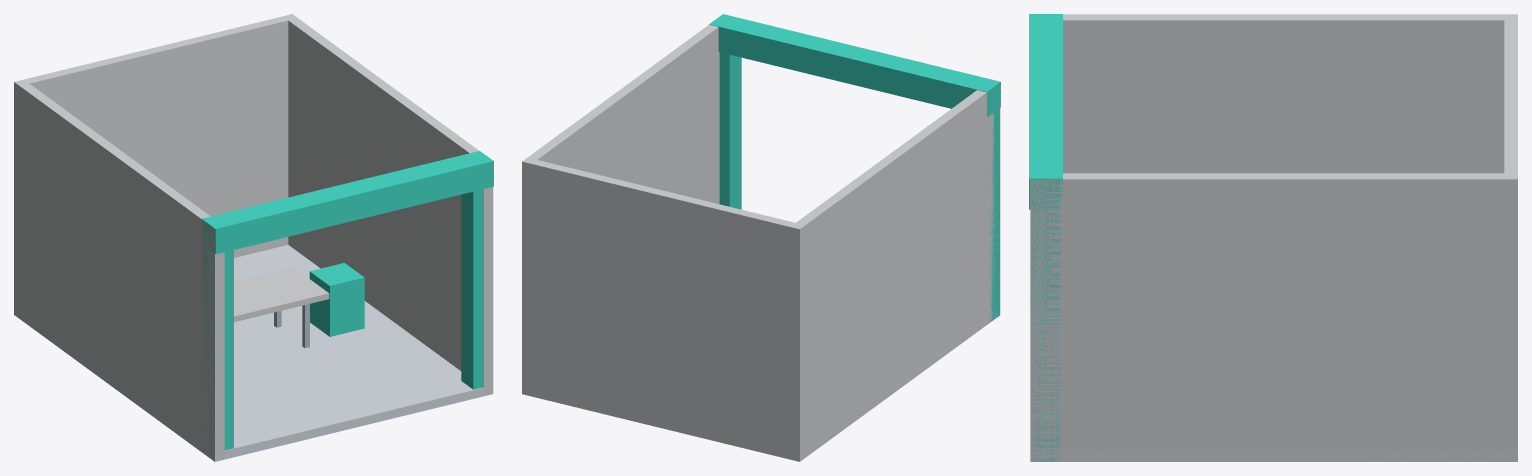
The picture shows the model from 3 angles, left to right: view 1: azimuth 30°, elevation 25°; view 2: azimuth 150°, elevation 25°; view 3: azimuth 270°, elevation 25°; orthographic projection. The views are drawn at different scales.
Visible parts, largest first — view 1: Exhibition Booth Concept; view 2: Exhibition Booth Concept; view 3: Exhibition Booth Concept.
Part boxes in pixels (box(x1,y1,x2,y2)): Exhibition Booth Concept: box(14, 14, 493, 461); Exhibition Booth Concept: box(522, 14, 1000, 461); Exhibition Booth Concept: box(1029, 14, 1517, 461).
Size of the model in its own units: 4 by 3.2 by 5.02.
